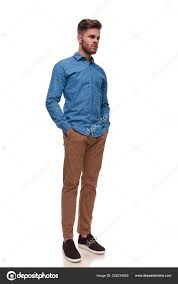standing: (42, 13, 121, 264)
